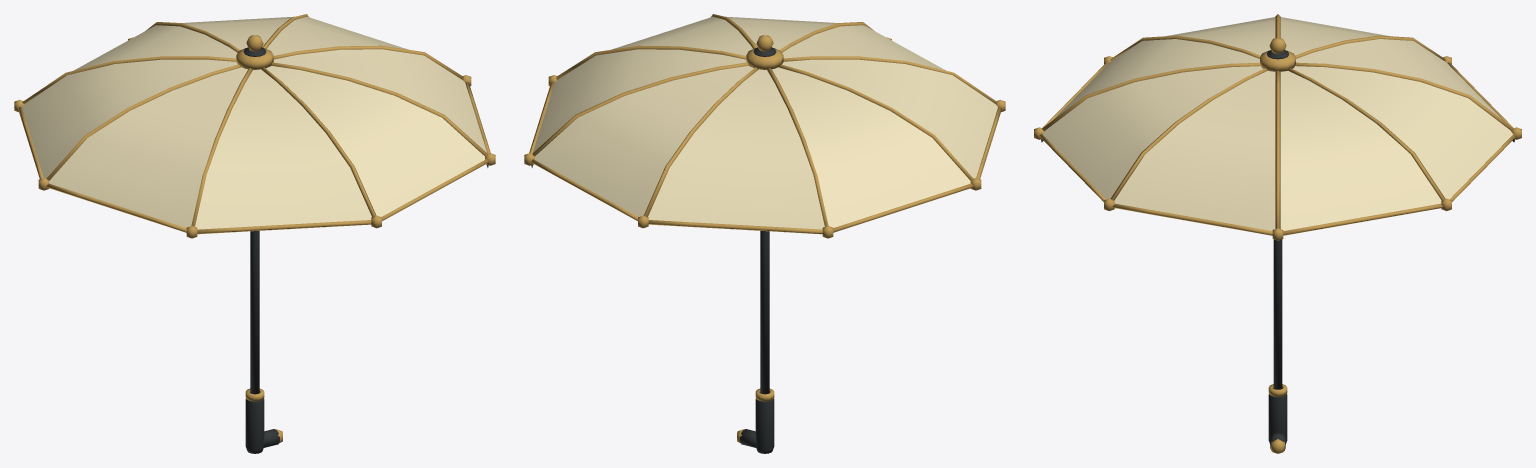
File: umbrella-switchboard.glb
3 views of the same model, side by side, from view 1: azimuth 30°, elevation 25°; view 2: azimuth 150°, elevation 25°; view 3: azimuth 270°, elevation 25° (orthographic). The views are drawn at different scales.
Visible parts, largest first — view 1: spin, umbrella_root; view 2: spin, umbrella_root; view 3: spin, umbrella_root.
Part boxes in pixels (x1=…): spin: x1=14, y1=14, x2=495, y2=238; umbrella_root: x1=245, y1=231, x2=282, y2=453; spin: x1=524, y1=14, x2=1005, y2=238; umbrella_root: x1=737, y1=231, x2=774, y2=453; spin: x1=1034, y1=14, x2=1521, y2=240; umbrella_root: x1=1268, y1=239, x2=1287, y2=453.
Bounding box in the file's own units: 1.54 × 1.41 × 1.53.
